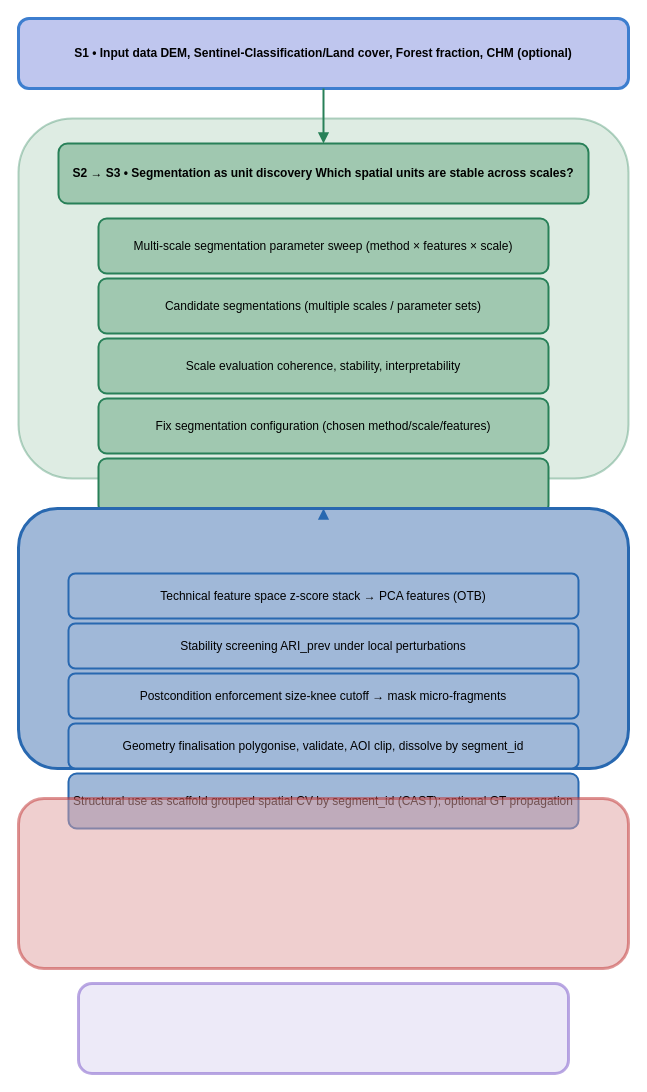
Image size: 647x1092. Some labels were removed from this diagram. The shapes that lost their labels are listed below. From the top down, each one's box as (x1, y1, x2, y2) in pixels, then its label:
(97, 457, 549, 514): Continuous segmentation map primary spatial analysis units
(16, 796, 630, 970): S3 → S4 • Physiographic strata + HRU/EFU (downstream, not defined here)
(76, 982, 570, 1074): S4 • Network optimisation + hydrology (downstream)
